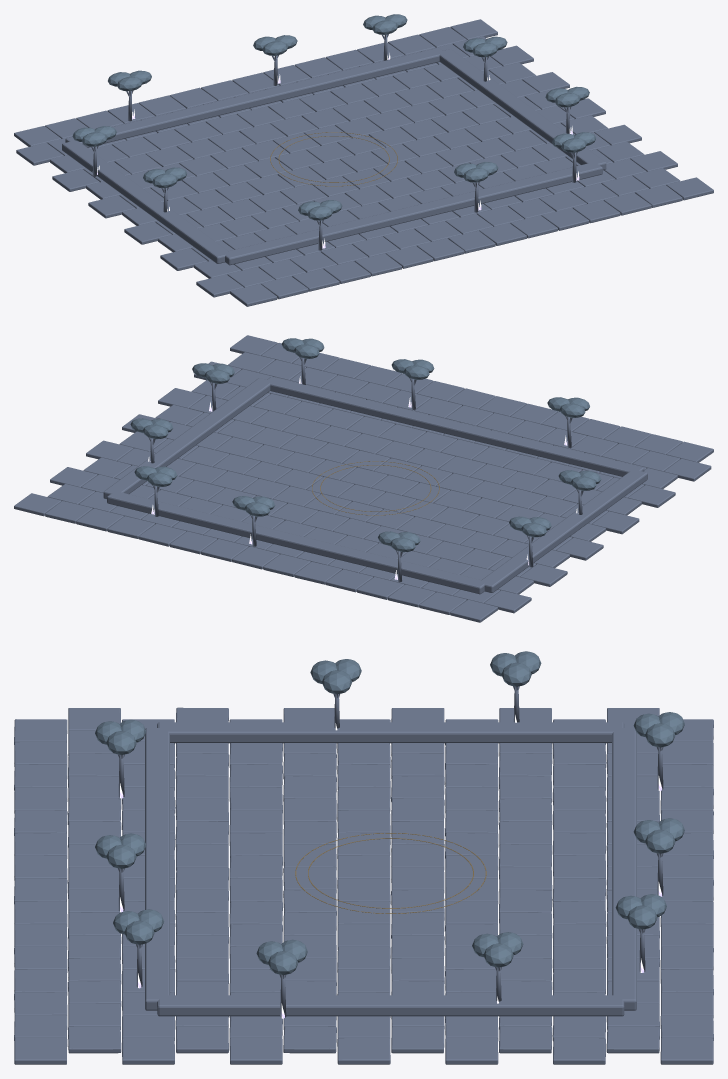
The model's file is moonrest_forest_raid.glb.
3 views of the same model, one above another, from view 1: azimuth 30°, elevation 25°; view 2: azimuth 150°, elevation 25°; view 3: azimuth 270°, elevation 25° (orthographic). The views are drawn at different scales.
Parts seen in each view (by area): view 1: moonrest_forest_raid Geometry; view 2: moonrest_forest_raid Geometry; view 3: moonrest_forest_raid Geometry.
Boxes of the visible parts, x1,y1,x2,y2 form: moonrest_forest_raid Geometry: (14, 14, 713, 306); moonrest_forest_raid Geometry: (14, 335, 713, 622); moonrest_forest_raid Geometry: (14, 651, 713, 1064).
Bounding box in the file's own units: 46.47 × 4.69 × 38.98.
